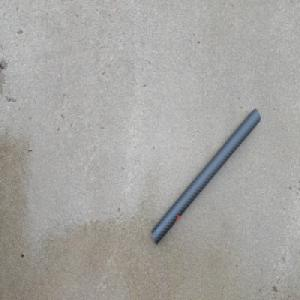LuggagePart: (151, 106, 261, 246)
